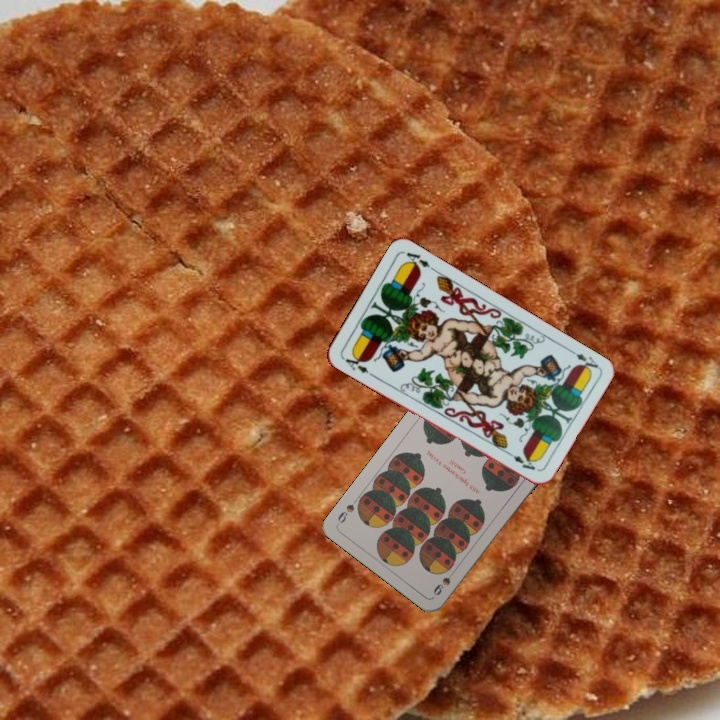EA: (339, 350, 376, 379), (572, 349, 601, 375)
S9: (429, 564, 459, 598)
